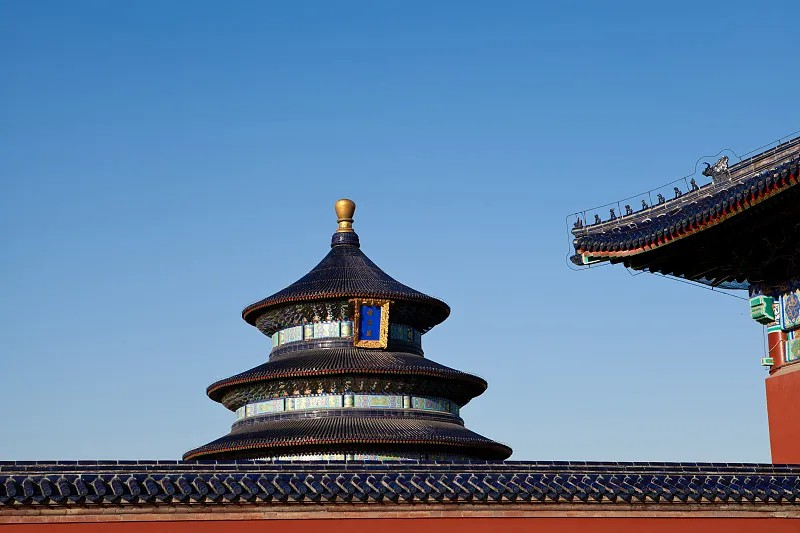Heaven: (180, 199, 513, 461)
